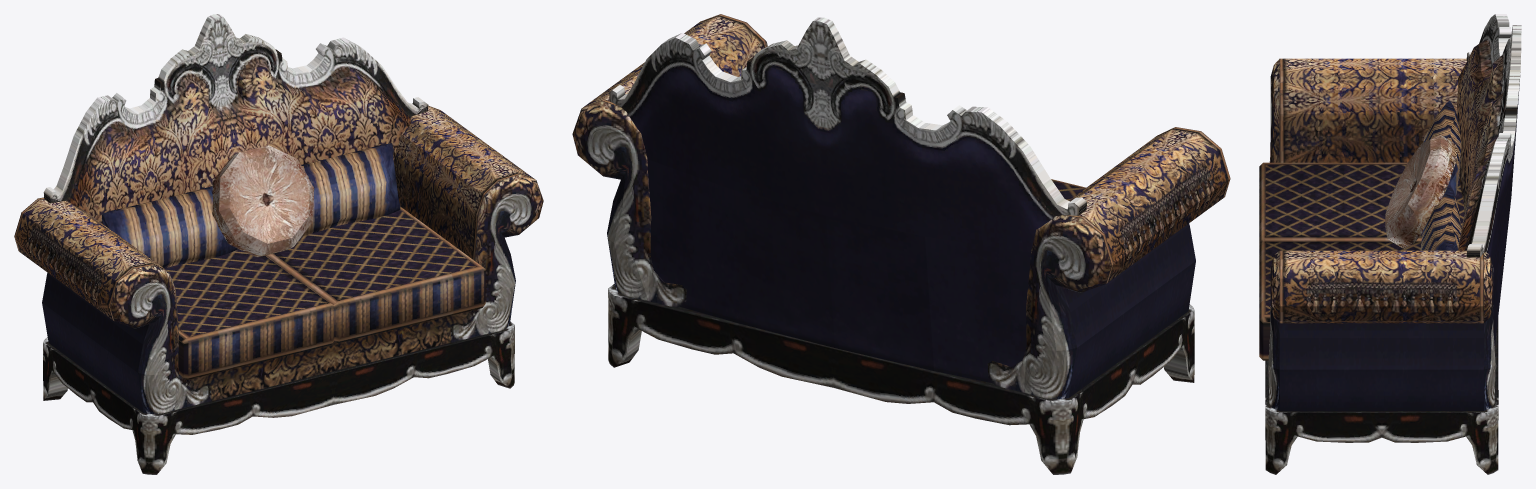
Rendered from furni_0201209.FBX.
The picture shows the model from 3 angles, left to right: view 1: azimuth 30°, elevation 25°; view 2: azimuth 150°, elevation 25°; view 3: azimuth 270°, elevation 25°; orthographic projection. The views are drawn at different scales.
Visible parts, largest first — view 1: furni_0201209; view 2: furni_0201209; view 3: furni_0201209.
Part boxes in pixels (<box>): furni_0201209: <box>14,14,543,474</box>; furni_0201209: <box>572,14,1230,474</box>; furni_0201209: <box>1259,14,1521,474</box>.
Size of the model in its own units: 158 by 115 by 77.62.
Materials: 1 (1 with a texture image).
